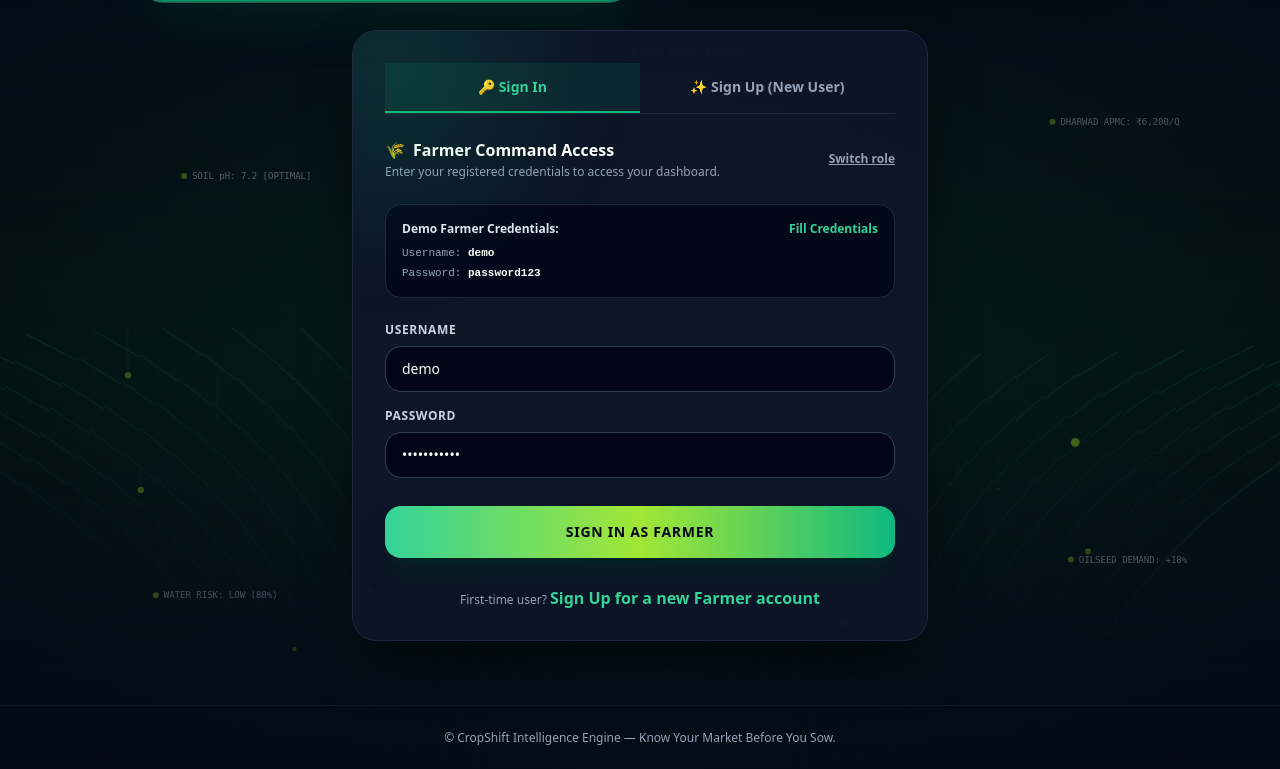
it: LoginPage Component Tests › displays error message when login fails
(page scrolled)
Step 1. Replace the text in the field with placeholder "Enter your username" with "wronguser" → coordinates (640, 369), box top-left (385, 346), bottom-right (895, 392)
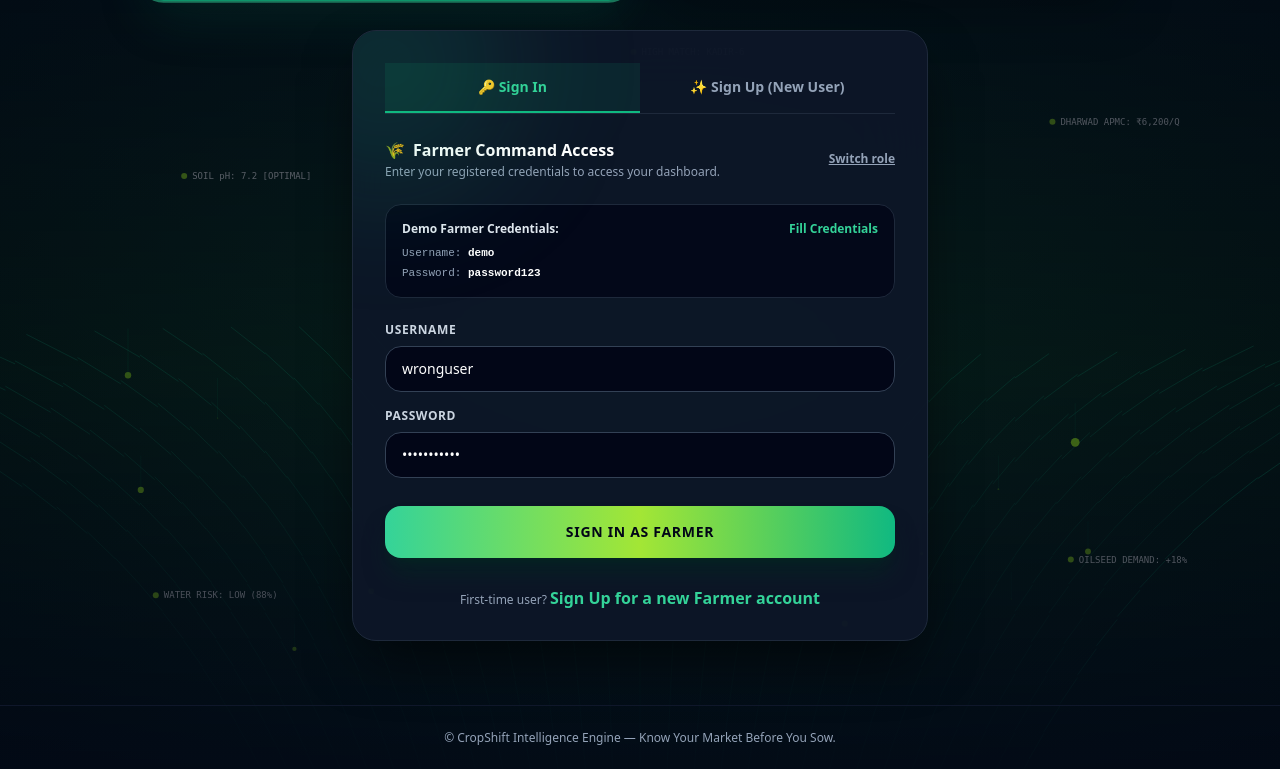
Step 2. Type "wrongpass" into the password field with placeholder "Enter your password" → coordinates (640, 455), box top-left (385, 432), bottom-right (895, 478)
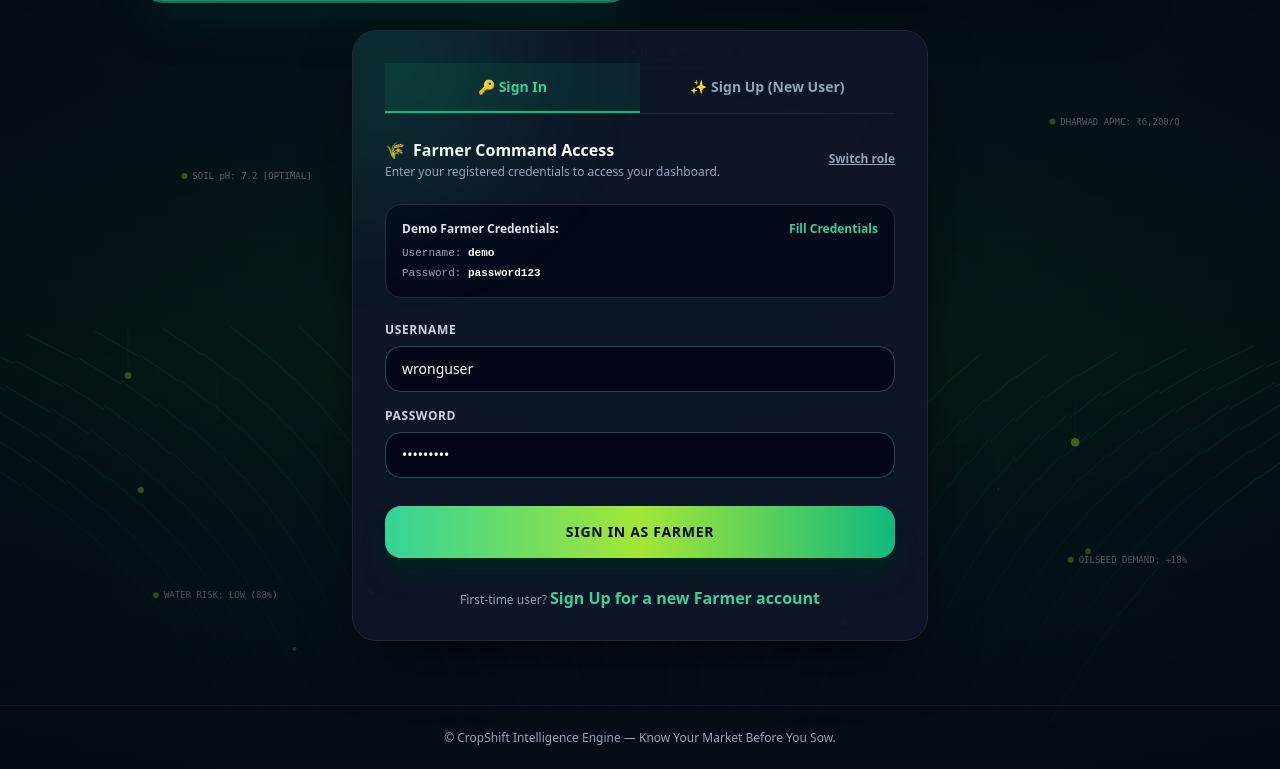
Step 3. Click the button with test id "login-submit-btn" → coordinates (640, 532), box top-left (385, 506), bottom-right (895, 558)
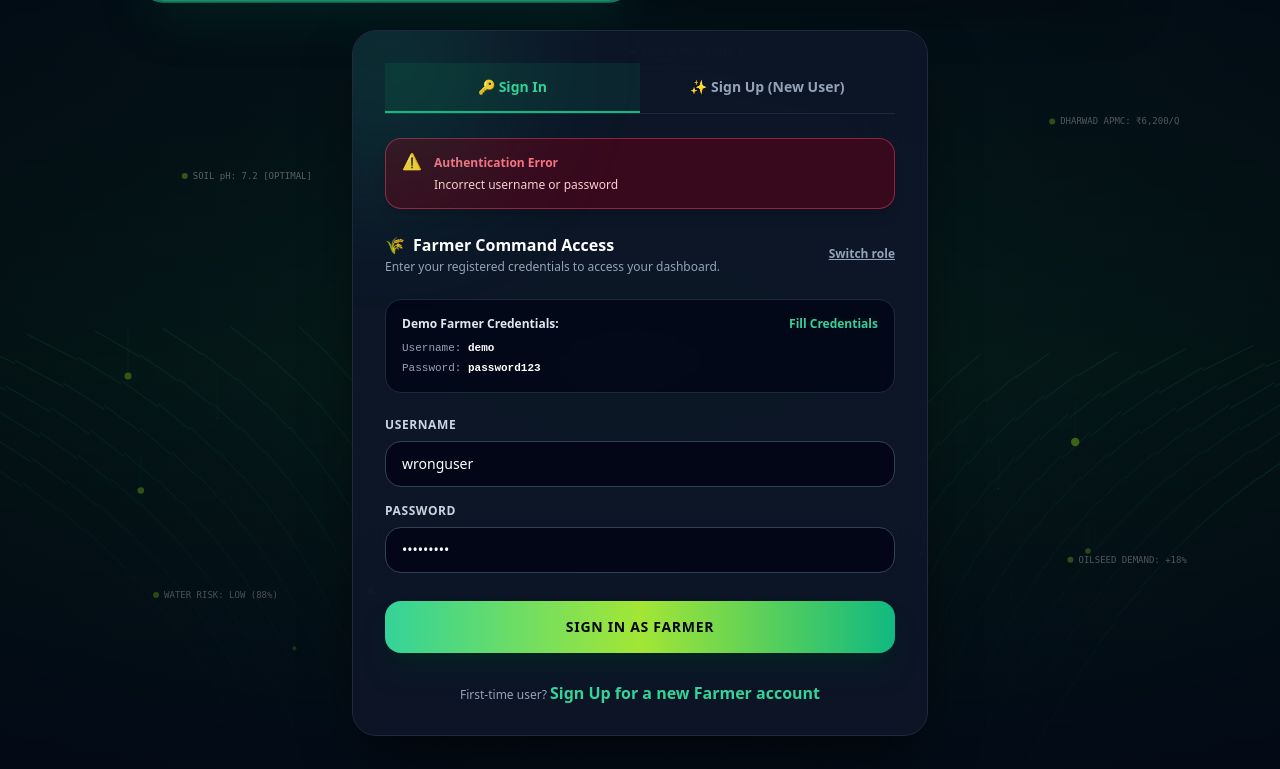
Now the message shows "Incorrect username or password", box top-left (434, 176), bottom-right (618, 192)
